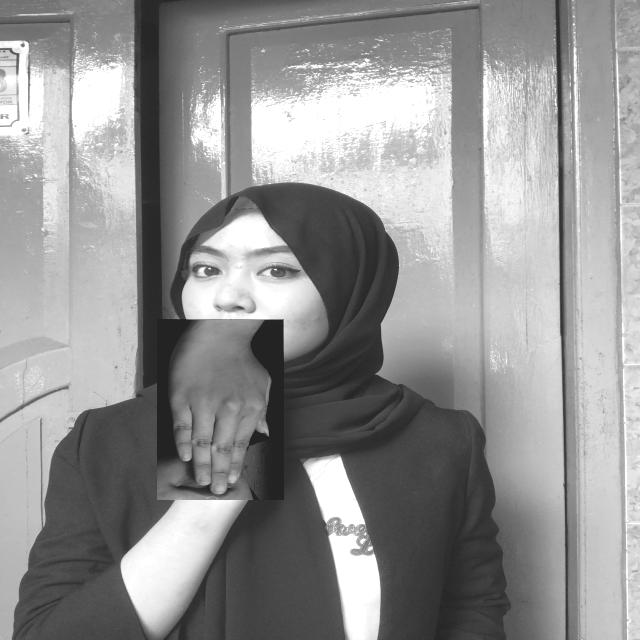ganteng: (157, 319, 284, 500)
